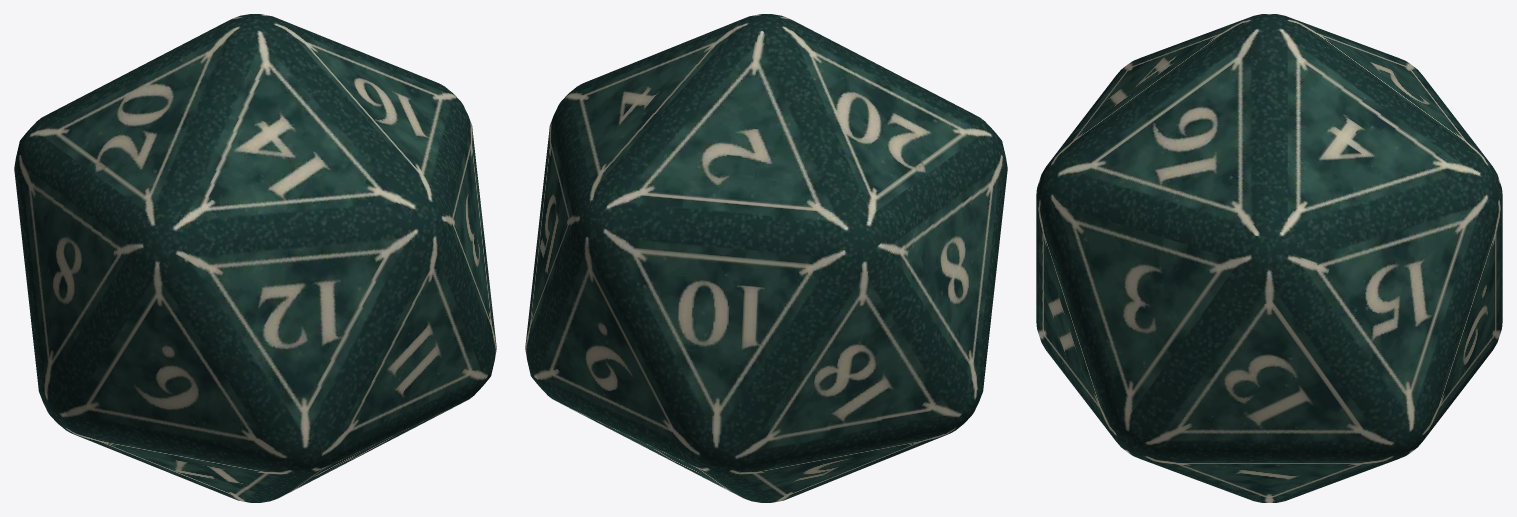
File: argonian-d20.glb
The picture shows the model from 3 angles, left to right: view 1: azimuth 30°, elevation 25°; view 2: azimuth 150°, elevation 25°; view 3: azimuth 270°, elevation 25°; orthographic projection.
Visible parts, largest first — view 1: argonian_d20; view 2: argonian_d20; view 3: argonian_d20.
Part boxes in pixels (x1,y1,x2,y2): argonian_d20: [14, 14, 496, 502]; argonian_d20: [525, 14, 1007, 502]; argonian_d20: [1036, 14, 1502, 502].
Size of the model in its own units: 1.74 by 1.9 by 1.67.
1 material, 1 textured.
